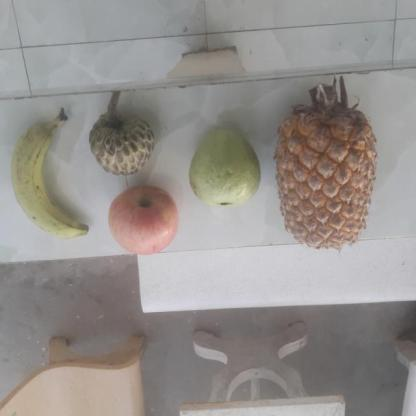annona: (89, 102, 157, 175)
apple: (106, 184, 181, 255)
banana: (13, 114, 93, 237)
guava: (192, 129, 264, 208)
pineapple: (276, 103, 378, 249)
